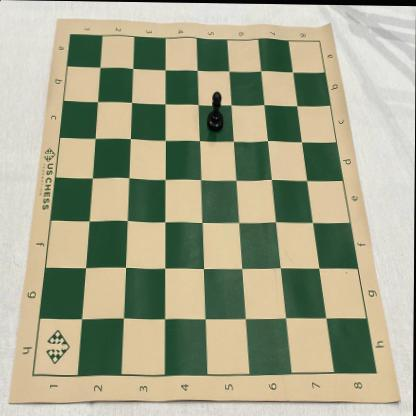black-pawn: (207, 90, 225, 131)
